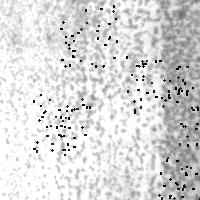pitted_surface: (1, 1, 200, 198), (33, 94, 89, 154), (60, 5, 116, 65), (126, 56, 186, 111), (168, 87, 200, 144), (158, 157, 200, 200)
